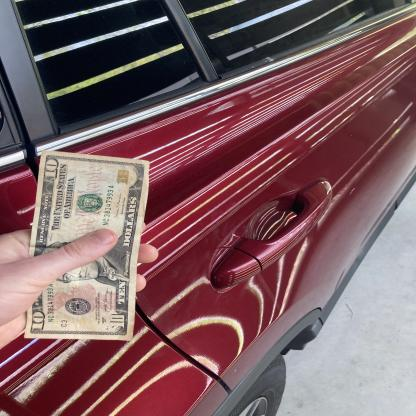ten-front: (27, 150, 152, 341)
